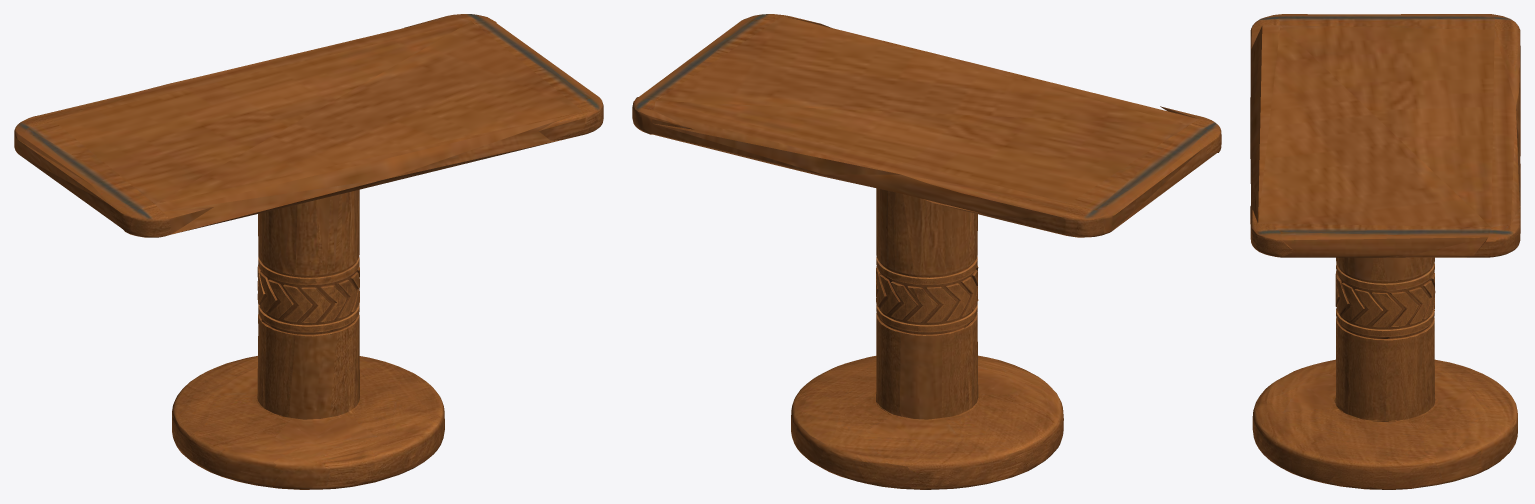
Rendered from play-table.glb.
3 renders of one model, left to right at view 1: azimuth 30°, elevation 25°; view 2: azimuth 150°, elevation 25°; view 3: azimuth 270°, elevation 25°, orthographic. The views are drawn at different scales.
Visible parts, largest first — view 1: output_unwrapped; view 2: output_unwrapped; view 3: output_unwrapped.
Part boxes in pixels (<box>): output_unwrapped: <box>14,14,603,489</box>; output_unwrapped: <box>632,14,1221,489</box>; output_unwrapped: <box>1250,14,1520,489</box>.
Size of the model in its own units: 1.01 by 0.645 by 0.5067.
1 material, 1 textured.
